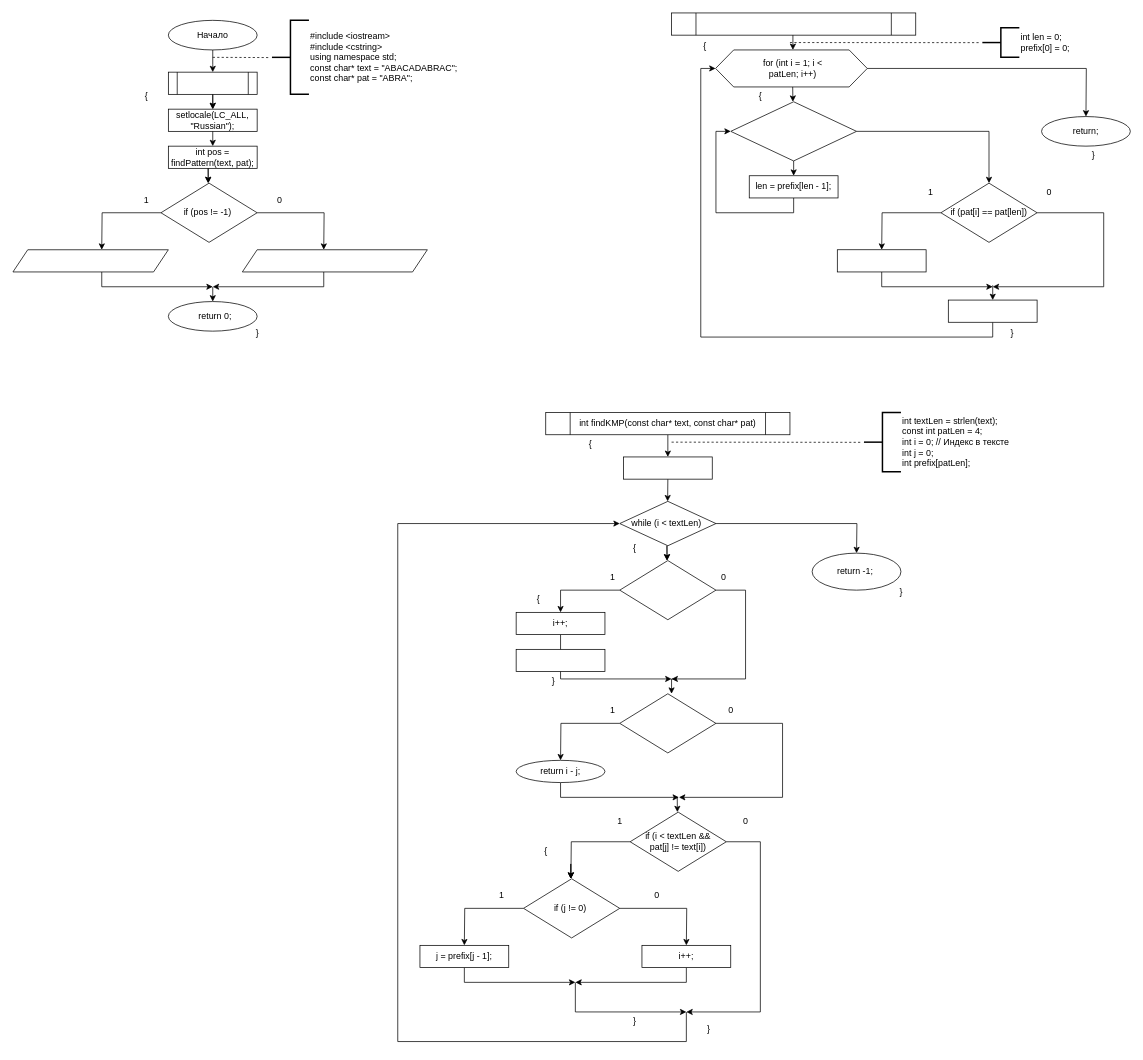
Some shapes in this 1143 by 1060 pixel diagram are drawn without their labels. Here are the shapes that lost their labels. From the top down, the centre of each, then its label:
(793,23): void Prefix(const char* pat, int patLen, int prefix[])
(212,82): int main()
(793,131): while (len > 0 && pat[i] != pat[len])
(90,260): cout << "Подстрока найдена на индексе: " << pos << endl;
(334,260): cout << "Подстрока не найдена." << endl;
(881,260): len++;
(992,310): prefix[i] = len;
(667,467): Prefix(pat, patLen, prefix);
(667,590): if (pat[j] == text[i])
(560,660): j++;
(667,723): if (j == patLen)
